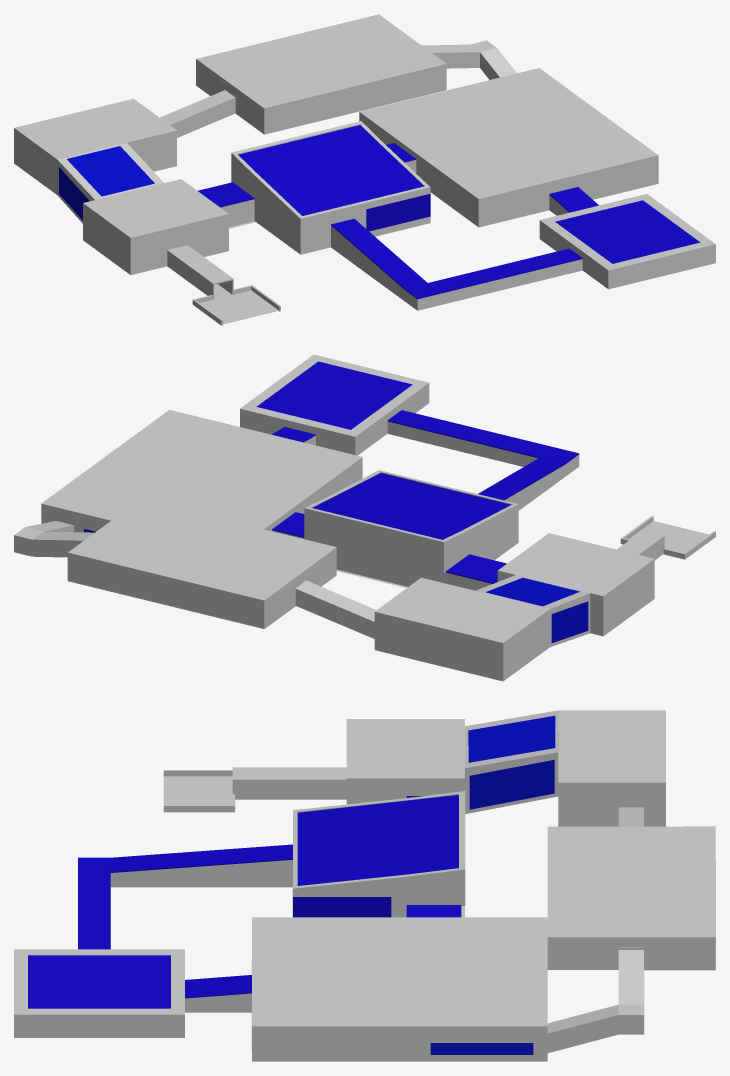
Rendered from Floor_Lvl.fbx.
3 views of the same model, one above another, from view 1: azimuth 30°, elevation 25°; view 2: azimuth 150°, elevation 25°; view 3: azimuth 270°, elevation 25° (orthographic). The views are drawn at different scales.
Parts seen in each view (by area): view 1: Rooftops, Halls, LeftRoomWalls, CenterRoomWalls, Halls.002, RightRoomWalls, GlassRoomWalls, BackRoomAndHallWalls, Floor, EntranceWalls; view 2: Rooftops, Halls, LeftRoomWalls, CenterRoomWalls, GlassRoomWalls, Halls.002, BackRoomAndHallWalls, RightRoomWalls, Floor, EntranceWalls; view 3: Rooftops, Halls, LeftRoomWalls, RightRoomWalls, Halls.002, CenterRoomWalls, GlassRoomWalls, BackRoomAndHallWalls, Floor, EntranceWalls.
Boxes of the visible parts, <box> form: Rooftops: <box>14,14,715,270</box>; Halls: <box>160,40,582,310</box>; LeftRoomWalls: <box>14,131,228,274</box>; CenterRoomWalls: <box>231,121,430,254</box>; Halls.002: <box>197,143,598,299</box>; RightRoomWalls: <box>359,115,658,227</box>; GlassRoomWalls: <box>196,62,446,134</box>; BackRoomAndHallWalls: <box>539,221,715,289</box>; Floor: <box>94,114,553,324</box>; EntranceWalls: <box>192,285,280,325</box>; Rooftops: <box>41,354,654,646</box>; Halls: <box>14,421,664,638</box>; LeftRoomWalls: <box>374,562,654,681</box>; CenterRoomWalls: <box>304,470,518,573</box>; GlassRoomWalls: <box>67,550,336,628</box>; Halls.002: <box>272,410,579,583</box>; BackRoomAndHallWalls: <box>240,384,429,455</box>; RightRoomWalls: <box>41,461,362,532</box>; Floor: <box>47,521,708,635</box>; EntranceWalls: <box>620,516,715,559</box>; Rooftops: <box>14,710,715,1030</box>; Halls: <box>110,767,643,1053</box>; LeftRoomWalls: <box>346,736,665,826</box>; RightRoomWalls: <box>252,1030,547,1061</box>; Halls.002: <box>78,796,461,998</box>; CenterRoomWalls: <box>293,791,465,917</box>; GlassRoomWalls: <box>547,940,715,970</box>; BackRoomAndHallWalls: <box>14,1015,184,1037</box>; Floor: <box>110,776,715,1051</box>; EntranceWalls: <box>163,770,234,812</box>.
Bounding box in the file's own units: 8908 × 968 × 8913.
